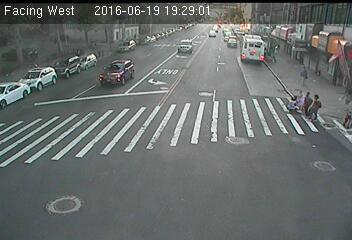neg: (106, 61, 137, 101), (68, 67, 87, 92), (280, 98, 296, 120), (296, 40, 311, 61), (245, 39, 258, 55)
pos: (308, 94, 327, 120), (296, 63, 315, 88), (299, 90, 316, 113)
